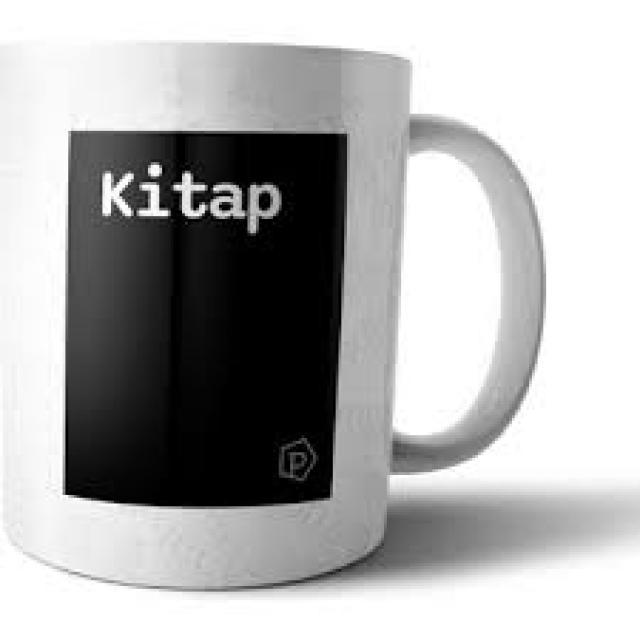taza: (0, 44, 548, 592)
